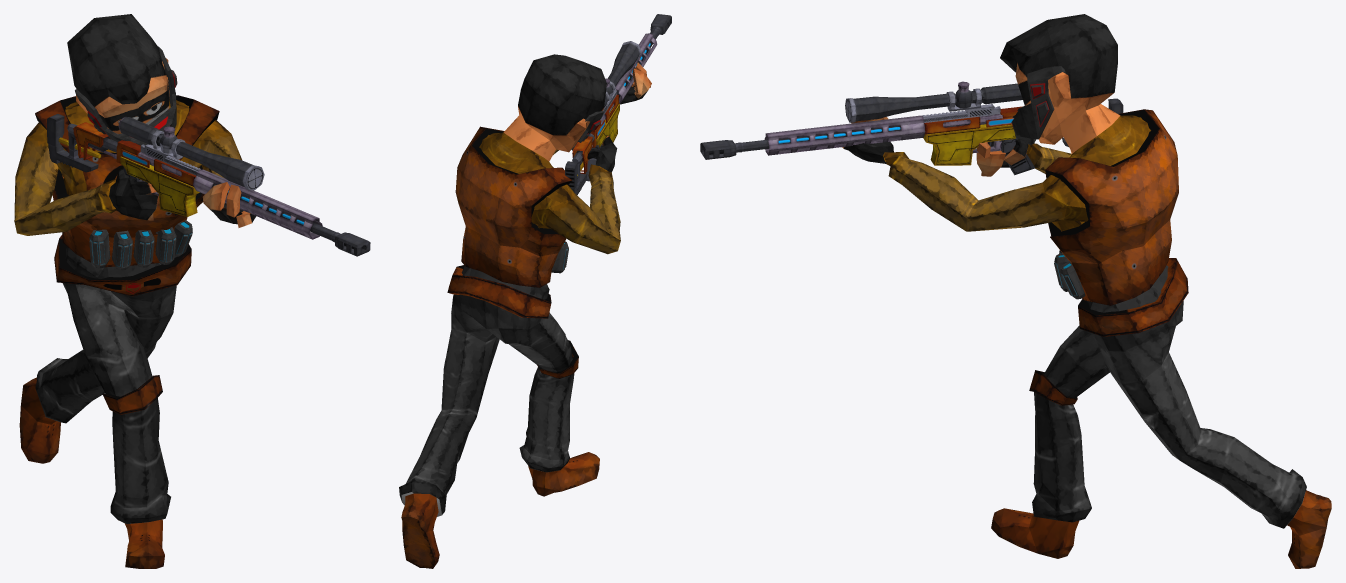
The model's file is RI_Terrorist_4V.fbx.
The picture shows the model from 3 angles, left to right: view 1: azimuth 30°, elevation 25°; view 2: azimuth 150°, elevation 25°; view 3: azimuth 270°, elevation 25°; orthographic projection. The views are drawn at different scales.
Parts seen in each view (by area): view 1: RI_Terrorist_4V; view 2: RI_Terrorist_4V; view 3: RI_Terrorist_4V.
Boxes of the visible parts, x1,y1,x2,y2 form: RI_Terrorist_4V: (14, 14, 370, 568); RI_Terrorist_4V: (399, 14, 671, 568); RI_Terrorist_4V: (700, 14, 1331, 568).
Bounding box in the file's own units: 0.6439 × 1.7 × 1.84.
